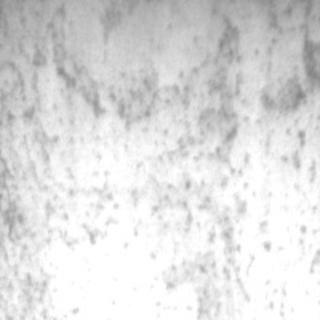pitted_surface: (1, 20, 316, 302)
